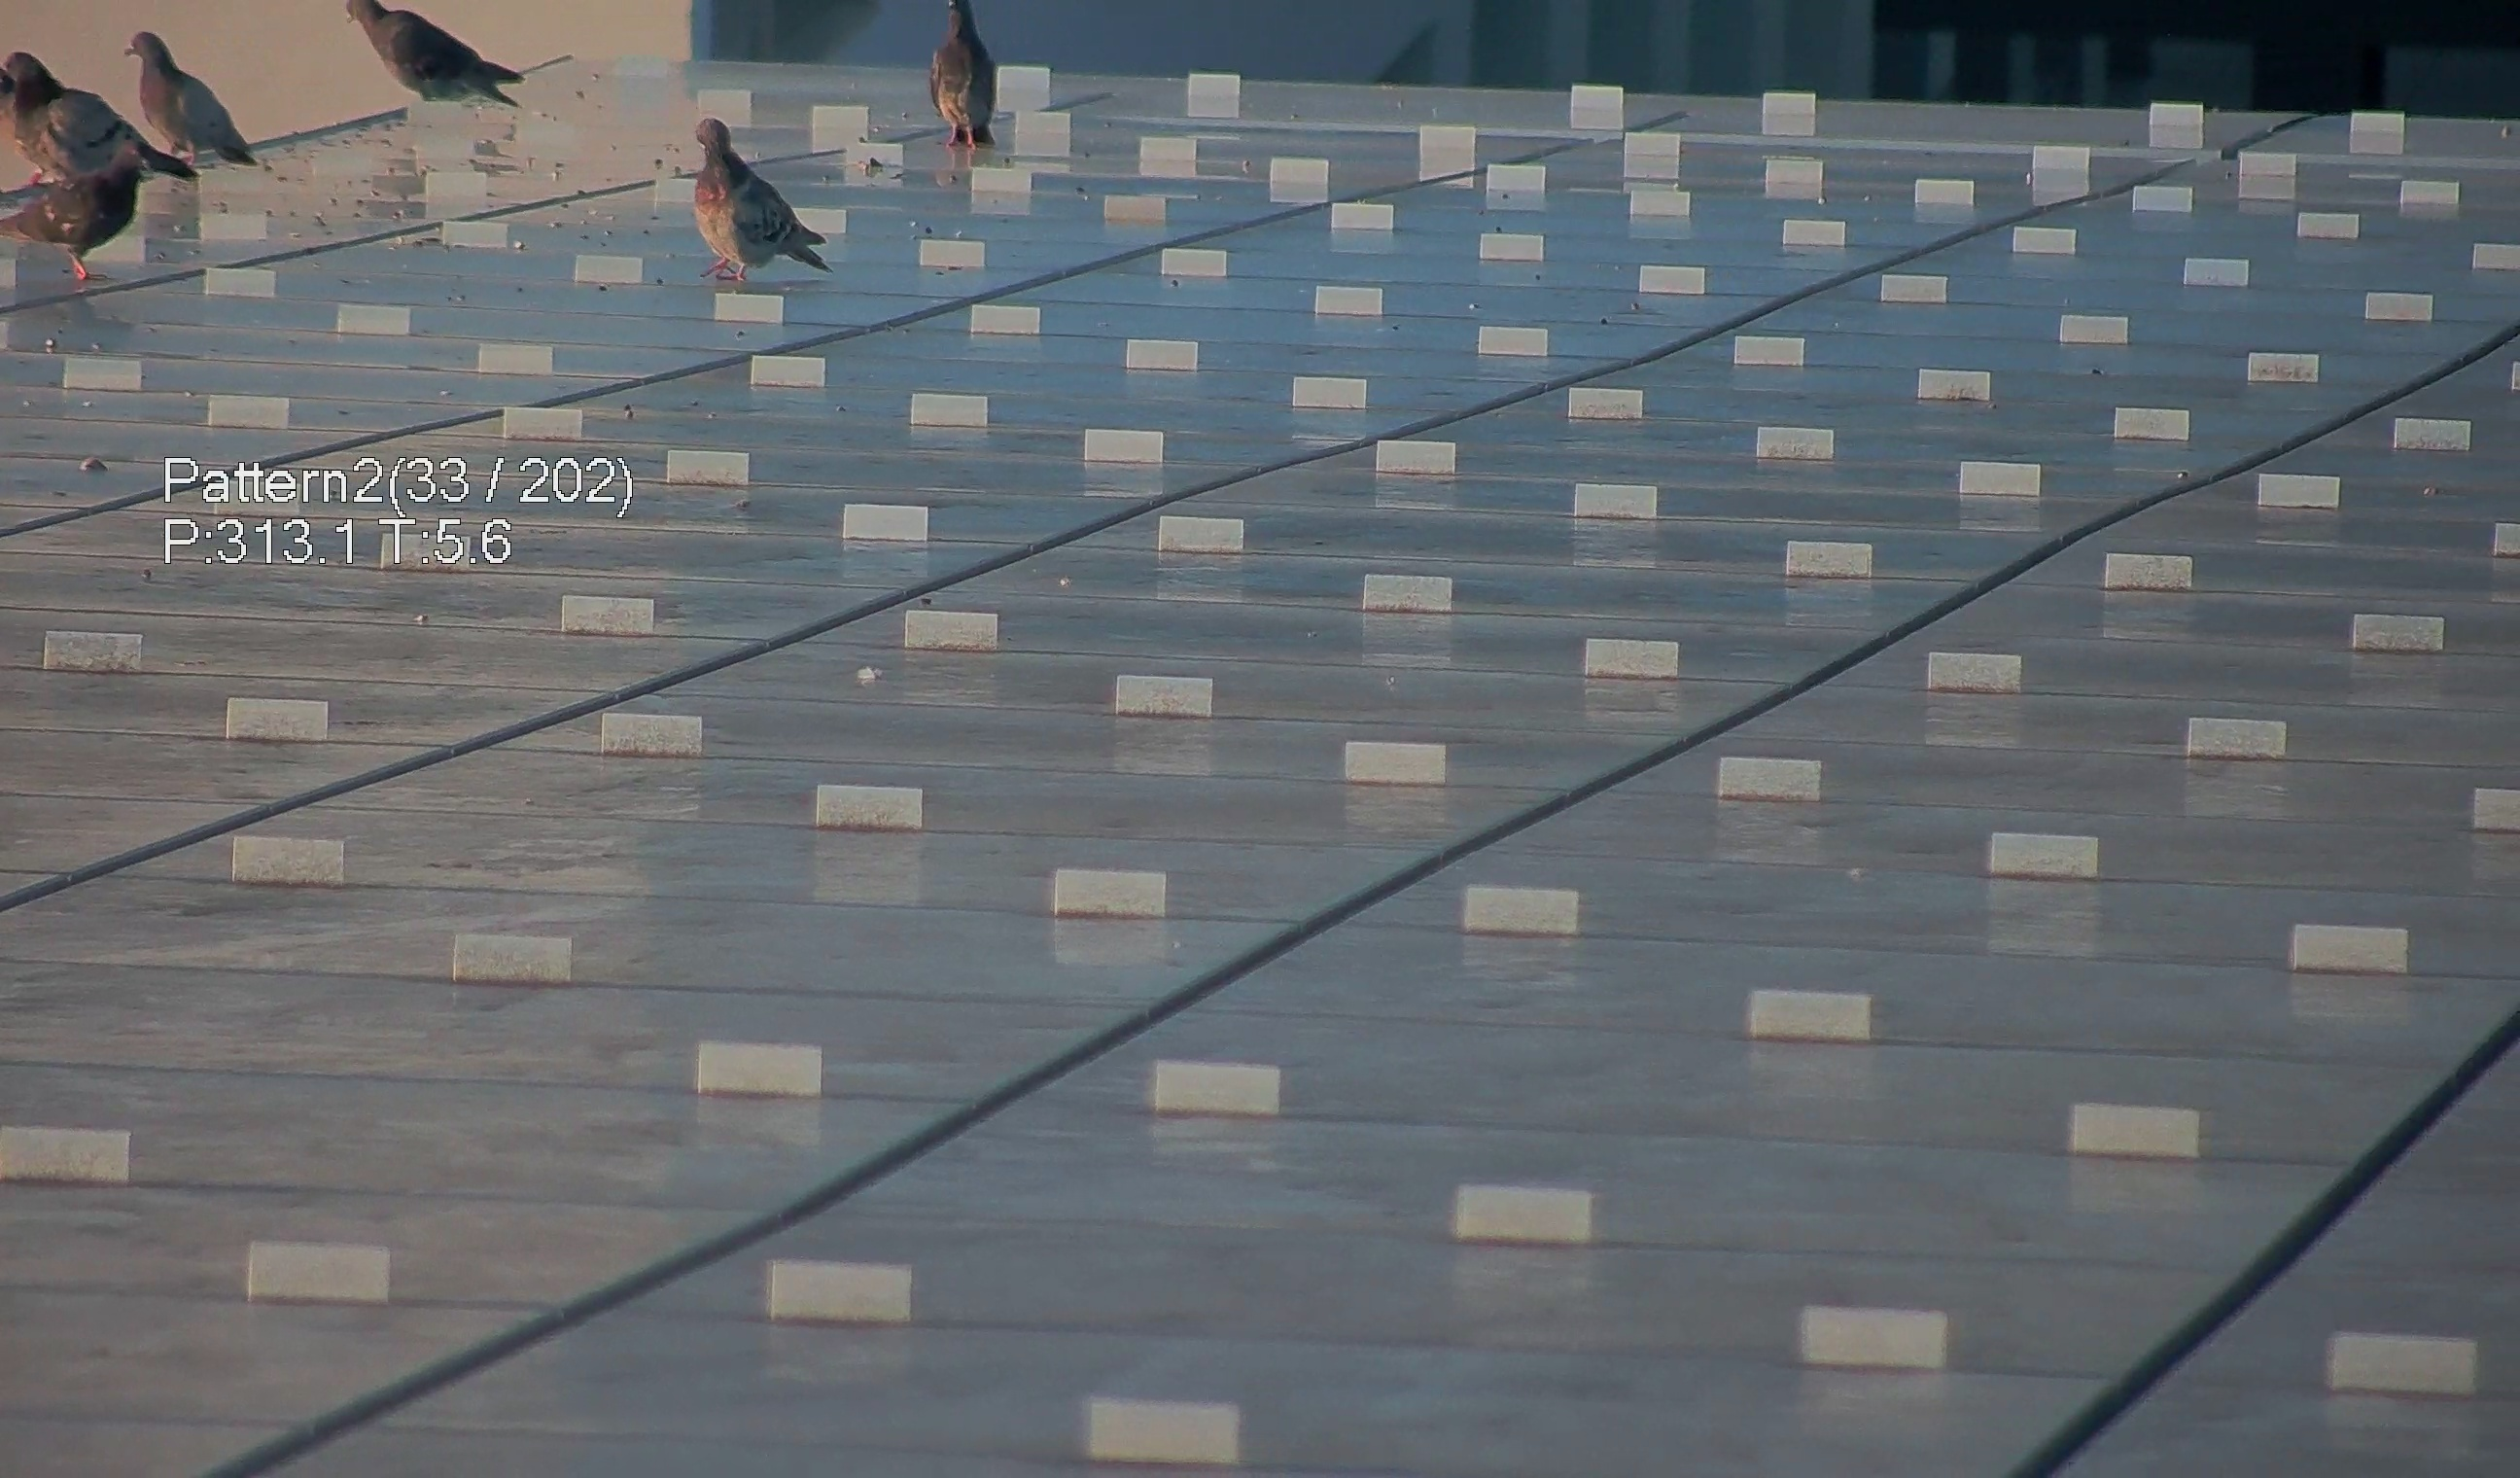Pigeon: (14, 32, 213, 278), (674, 113, 832, 290), (109, 9, 262, 171), (331, 2, 538, 107), (888, 2, 1011, 155)
